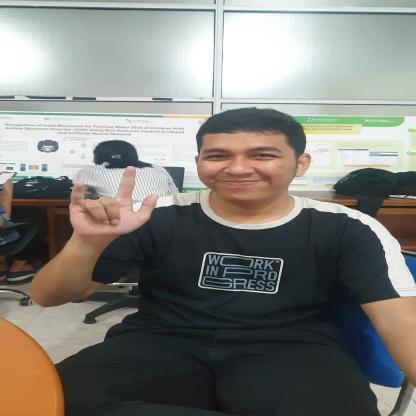ILoveYou: (52, 160, 161, 242)
